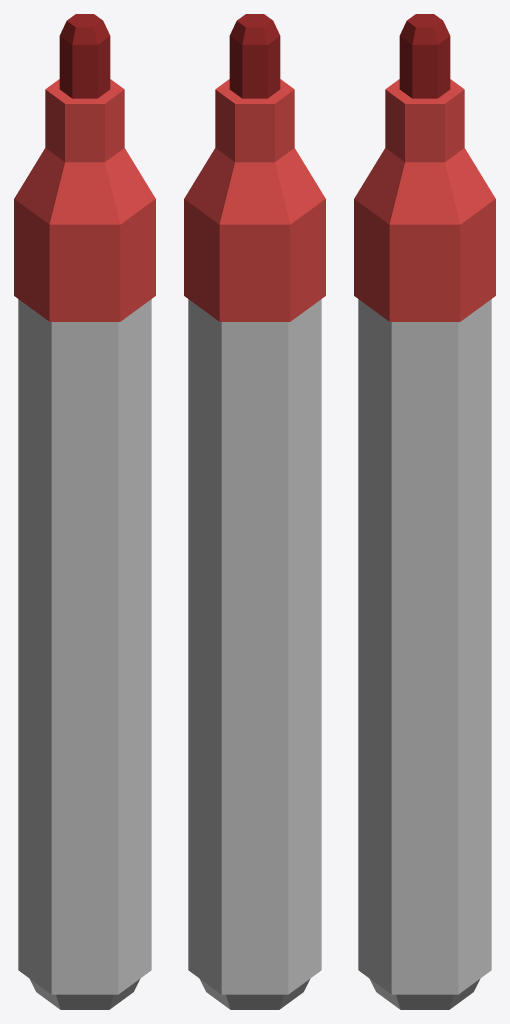
File: Marker.fbx
3 renders of one model, left to right at view 1: azimuth 30°, elevation 25°; view 2: azimuth 150°, elevation 25°; view 3: azimuth 270°, elevation 25°, orthographic.
Visible parts, largest first — view 1: Marker; view 2: Marker; view 3: Marker.
Boxes of the visible parts, x1=… form: Marker: x1=14, y1=14, x2=155, y2=1009; Marker: x1=184, y1=14, x2=325, y2=1009; Marker: x1=354, y1=14, x2=495, y2=1009.
Bounding box in the file's own units: 2.68 × 23.42 × 3.1.
